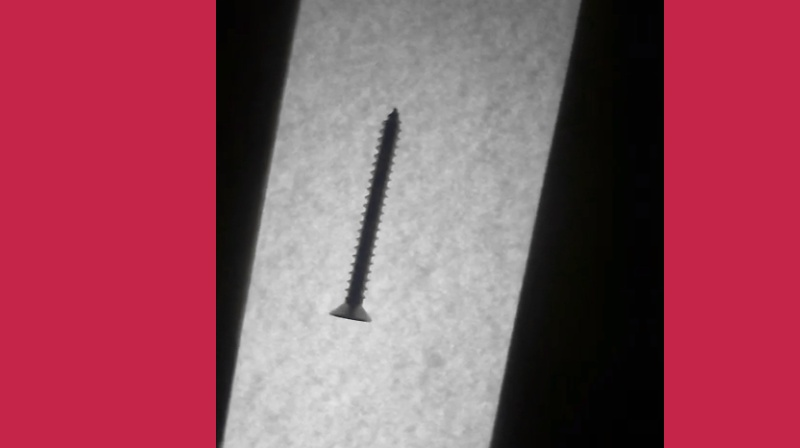S002: (327, 103, 403, 323)
